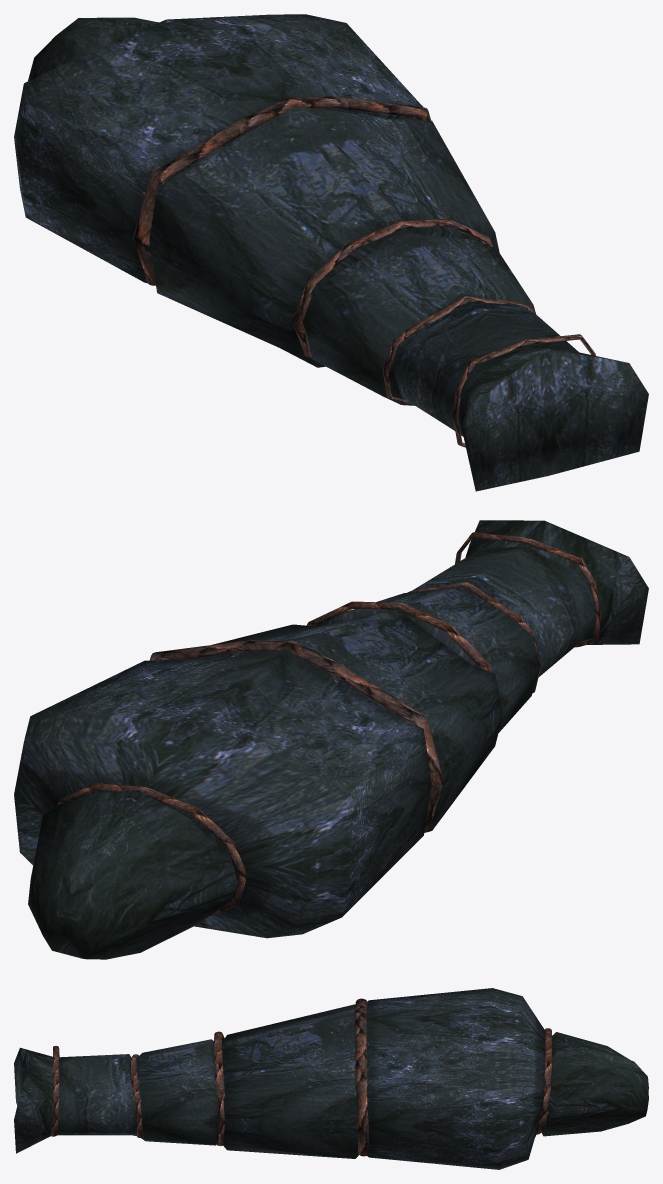
File: Bodybag.fbx
The picture shows the model from 3 angles, top to bottom: view 1: azimuth 30°, elevation 25°; view 2: azimuth 150°, elevation 25°; view 3: azimuth 270°, elevation 25°; orthographic projection. The views are drawn at different scales.
Visible parts, largest first — view 1: Bodybag; view 2: Bodybag; view 3: Bodybag.
Boxes of the visible parts, x1,y1,x2,y2 form: Bodybag: (14,14,648,491); Bodybag: (14,520,648,959); Bodybag: (14,988,648,1169).
Size of the model in its own units: 67.7 by 37.45 by 174.
